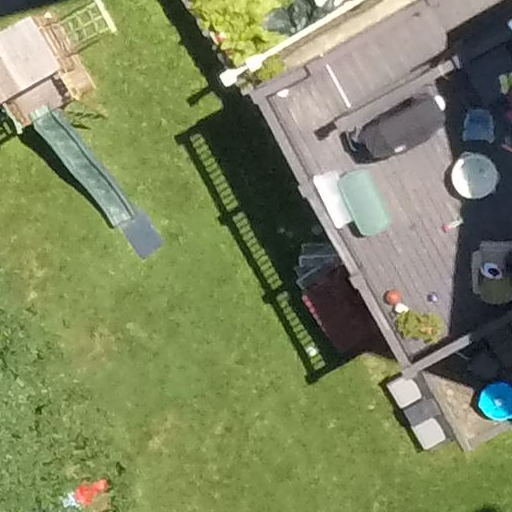container: (333, 164, 391, 237), (310, 164, 350, 227), (383, 287, 398, 304)
flower pot: (398, 308, 445, 348)
